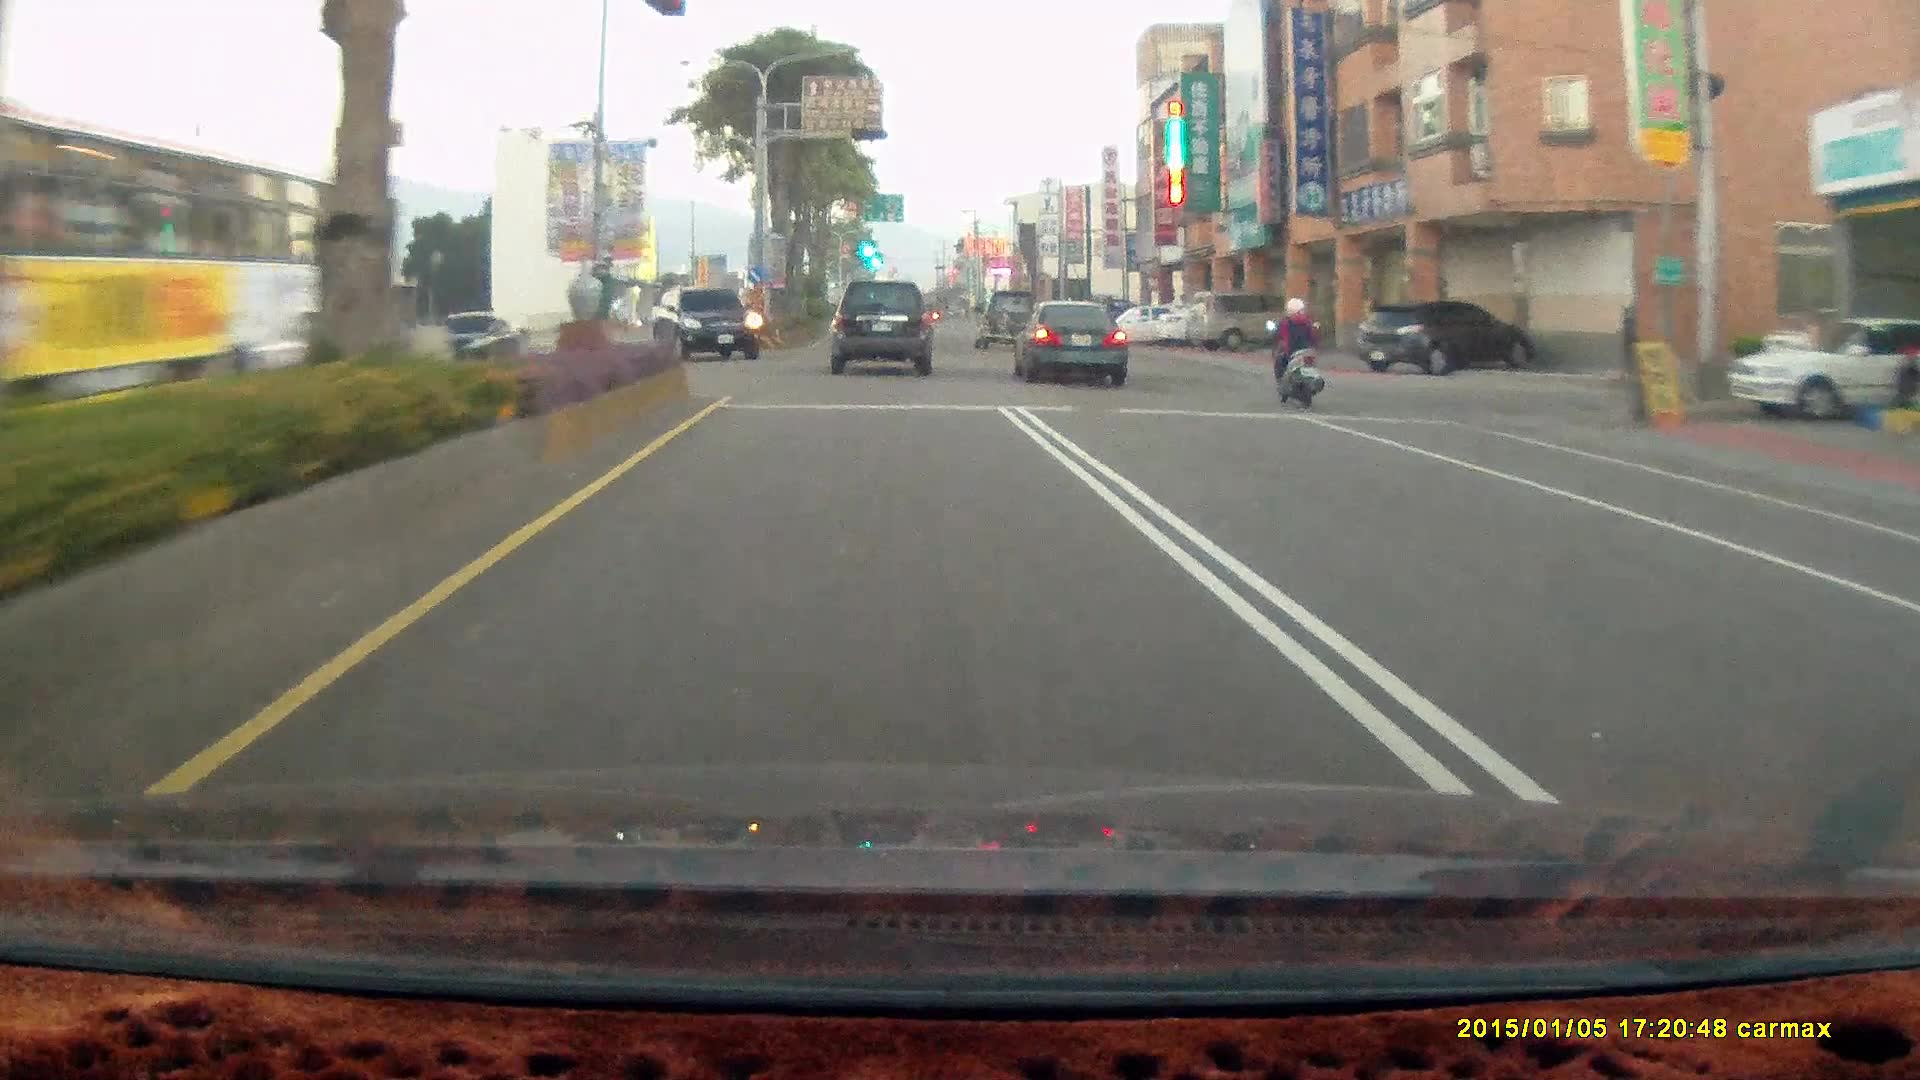pedestrian: (1892, 343, 1918, 408)
rider: (1254, 284, 1338, 423), (1267, 299, 1326, 409)
vehicle: (1, 108, 344, 442), (1726, 313, 1919, 421), (1730, 322, 1920, 422), (1353, 301, 1535, 376), (1357, 301, 1534, 374), (827, 281, 934, 377), (1009, 298, 1127, 384), (1010, 299, 1129, 385), (828, 277, 931, 372), (650, 285, 761, 361), (651, 292, 763, 366), (1182, 291, 1297, 350), (416, 309, 519, 373), (1181, 295, 1292, 353), (1099, 301, 1196, 346), (972, 289, 1039, 351)
